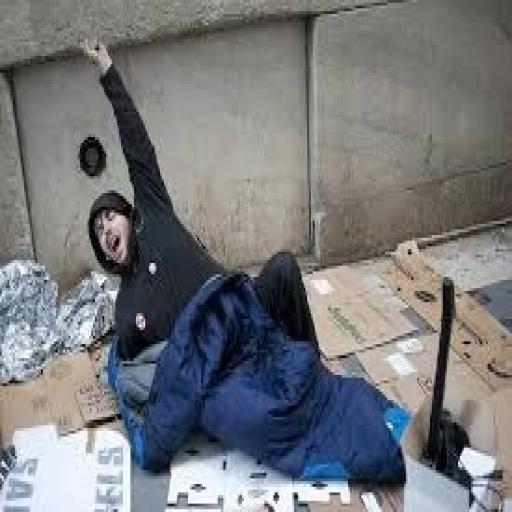sleeping: (78, 34, 412, 484)
